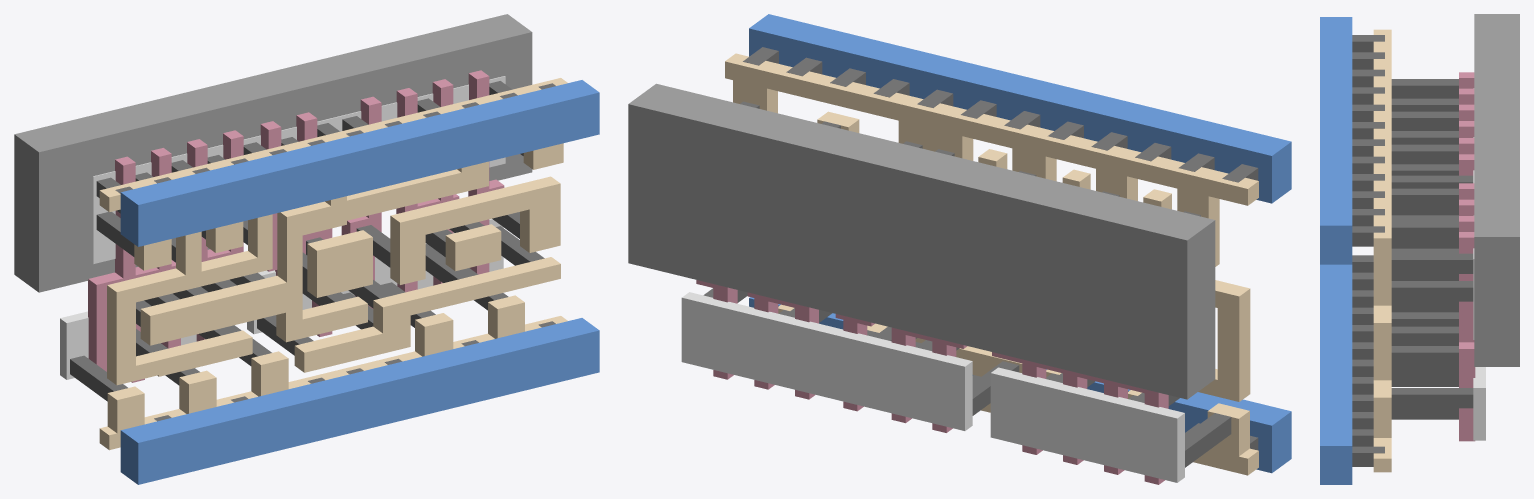
The model's file is sky130_fd_sc_hd__o21a_4.gds.gltf.
The picture shows the model from 3 angles, left to right: view 1: azimuth 30°, elevation 25°; view 2: azimuth 150°, elevation 25°; view 3: azimuth 270°, elevation 25°; orthographic projection. The views are drawn at different scales.
Visible parts, largest first — view 1: sky130_fd_sc_hd__o21a_4_li1, sky130_fd_sc_hd__o21a_4_met1, sky130_fd_sc_hd__o21a_4_nwell, sky130_fd_sc_hd__o21a_4_licon, sky130_fd_sc_hd__o21a_4_poly, sky130_fd_sc_hd__o21a_4_diff, sky130_fd_sc_hd__o21a_4_mcon; view 2: sky130_fd_sc_hd__o21a_4_nwell, sky130_fd_sc_hd__o21a_4_diff, sky130_fd_sc_hd__o21a_4_li1, sky130_fd_sc_hd__o21a_4_met1, sky130_fd_sc_hd__o21a_4_poly, sky130_fd_sc_hd__o21a_4_mcon, sky130_fd_sc_hd__o21a_4_licon; view 3: sky130_fd_sc_hd__o21a_4_licon, sky130_fd_sc_hd__o21a_4_nwell, sky130_fd_sc_hd__o21a_4_met1, sky130_fd_sc_hd__o21a_4_mcon, sky130_fd_sc_hd__o21a_4_li1, sky130_fd_sc_hd__o21a_4_poly, sky130_fd_sc_hd__o21a_4_diff.
Part boxes in pixels (x1,y1,x2,y2): sky130_fd_sc_hd__o21a_4_li1: (99, 78, 567, 450); sky130_fd_sc_hd__o21a_4_met1: (120, 80, 599, 484); sky130_fd_sc_hd__o21a_4_nwell: (14, 14, 532, 292); sky130_fd_sc_hd__o21a_4_licon: (70, 81, 544, 401); sky130_fd_sc_hd__o21a_4_poly: (88, 70, 504, 382); sky130_fd_sc_hd__o21a_4_diff: (60, 76, 505, 379); sky130_fd_sc_hd__o21a_4_mcon: (115, 83, 555, 421); sky130_fd_sc_hd__o21a_4_nwell: (628, 83, 1215, 399); sky130_fd_sc_hd__o21a_4_diff: (681, 292, 1184, 482); sky130_fd_sc_hd__o21a_4_li1: (725, 53, 1258, 475); sky130_fd_sc_hd__o21a_4_met1: (749, 14, 1291, 473); sky130_fd_sc_hd__o21a_4_poly: (696, 280, 1168, 484); sky130_fd_sc_hd__o21a_4_mcon: (743, 47, 1258, 450); sky130_fd_sc_hd__o21a_4_licon: (703, 101, 1231, 467); sky130_fd_sc_hd__o21a_4_licon: (1391, 79, 1473, 419); sky130_fd_sc_hd__o21a_4_nwell: (1474, 14, 1519, 366); sky130_fd_sc_hd__o21a_4_met1: (1320, 17, 1352, 484); sky130_fd_sc_hd__o21a_4_mcon: (1352, 35, 1384, 466); sky130_fd_sc_hd__o21a_4_li1: (1373, 29, 1391, 472); sky130_fd_sc_hd__o21a_4_poly: (1459, 72, 1475, 441); sky130_fd_sc_hd__o21a_4_diff: (1473, 88, 1485, 440).
Size of the model in its own units: 5.9 by 3.2 by 2.24.
